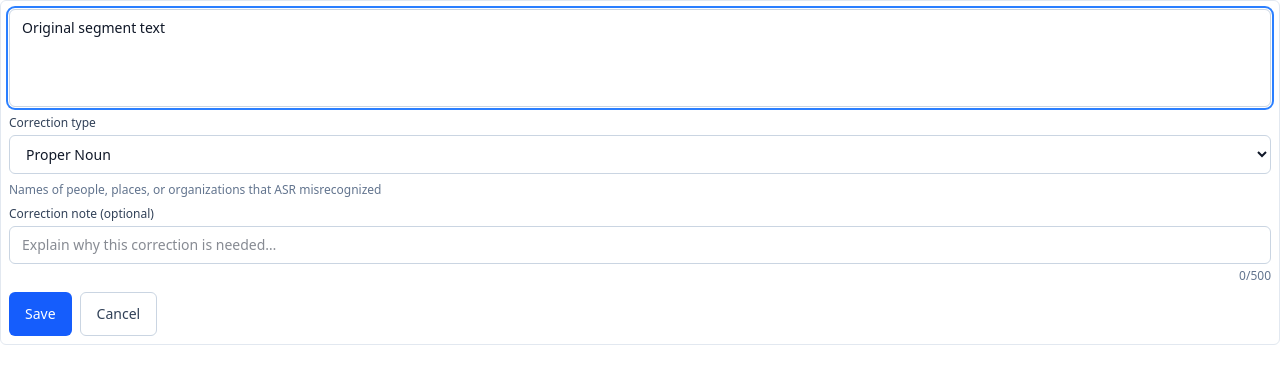
Test: SegmentEditForm › Test 6 — Empty text validation error › shows 'Correction text cannot be empty.' when textarea is cleared and Save is clicked
Clear the text box named "edit segment text" at (640, 58), box [9,9,1271,107]
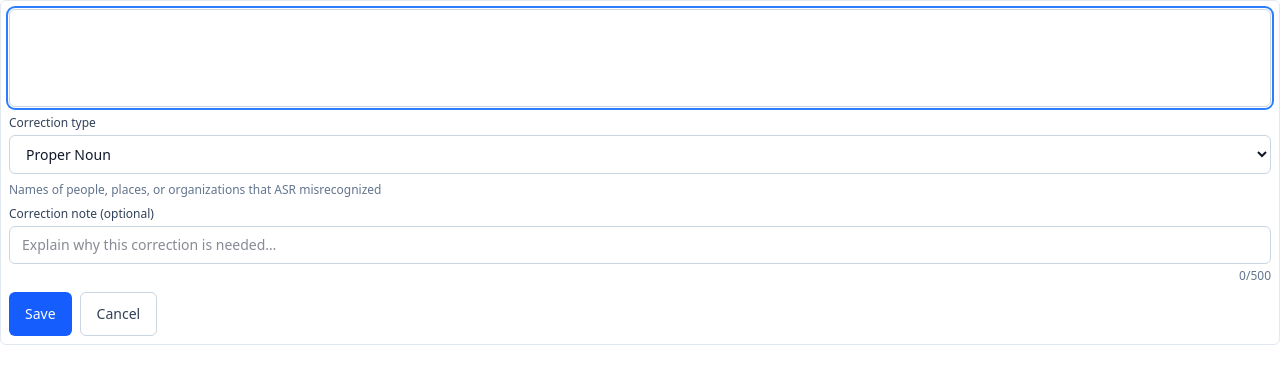
Click the button "Save" at (40, 314), box [9,292,72,336]
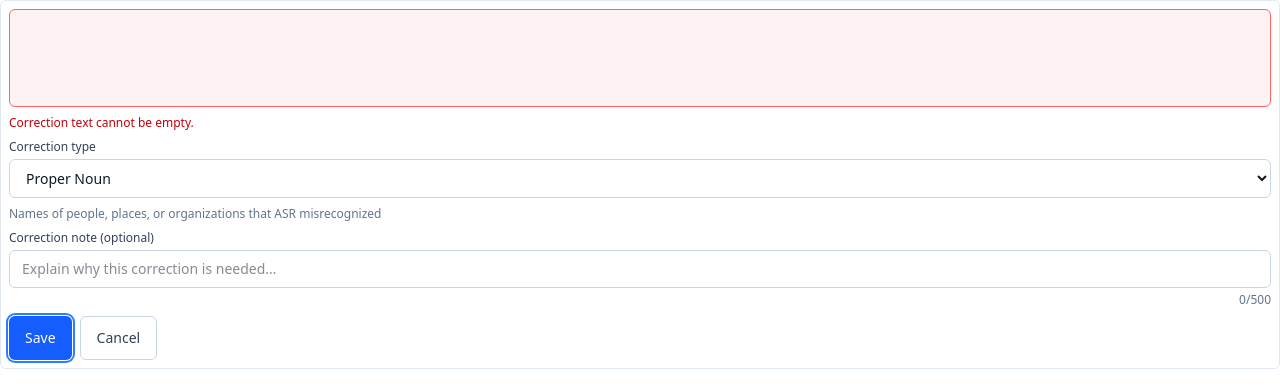
Expected: the text "Correction text cannot be empty." is shown, [9,114,194,131]
